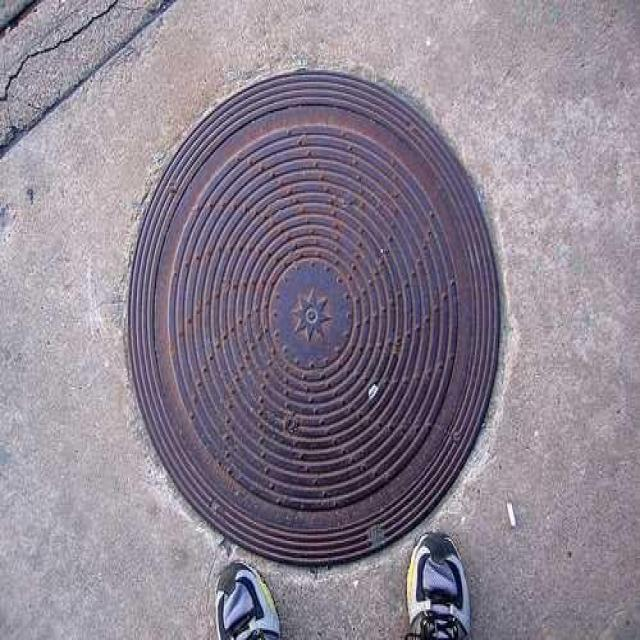manhole: (129, 72, 500, 563)
